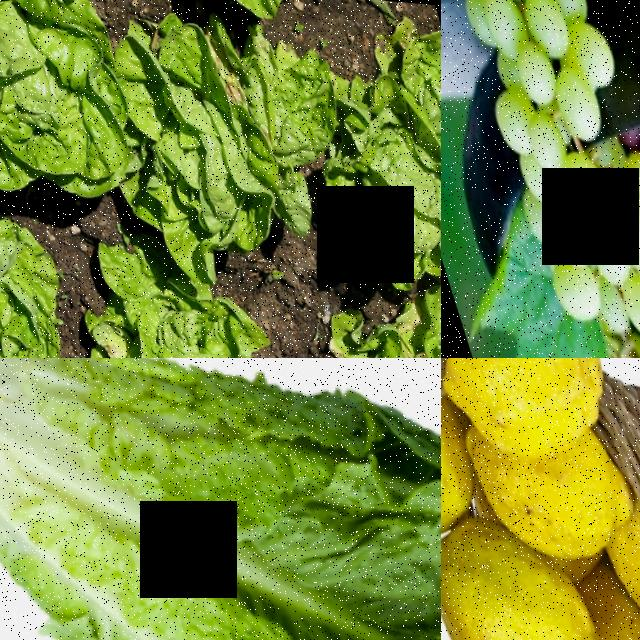grapes: (441, 0, 640, 334)
lemon: (453, 404, 621, 568), (441, 358, 629, 465), (441, 533, 608, 640)
lettuce: (0, 358, 441, 640), (109, 1, 316, 248), (293, 30, 441, 284), (48, 229, 291, 358), (0, 0, 147, 207), (0, 192, 79, 358), (304, 281, 441, 358)
